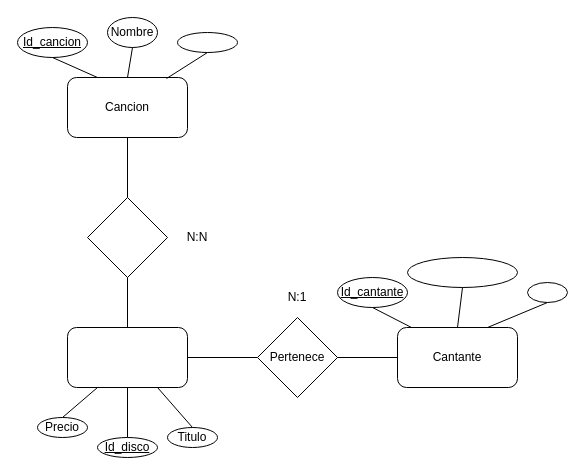
Image size: 585x475. Some labels were removed from this diagram. The centre of each missing label's shape, as x and y in pixels:
"Disco" belongs at (x=127, y=357).
"Genero" belongs at (x=207, y=42).
"Nombre_cantante" belongs at (x=462, y=272).
"Pais" belongs at (x=547, y=292).
"Tiene" belongs at (x=127, y=237).
